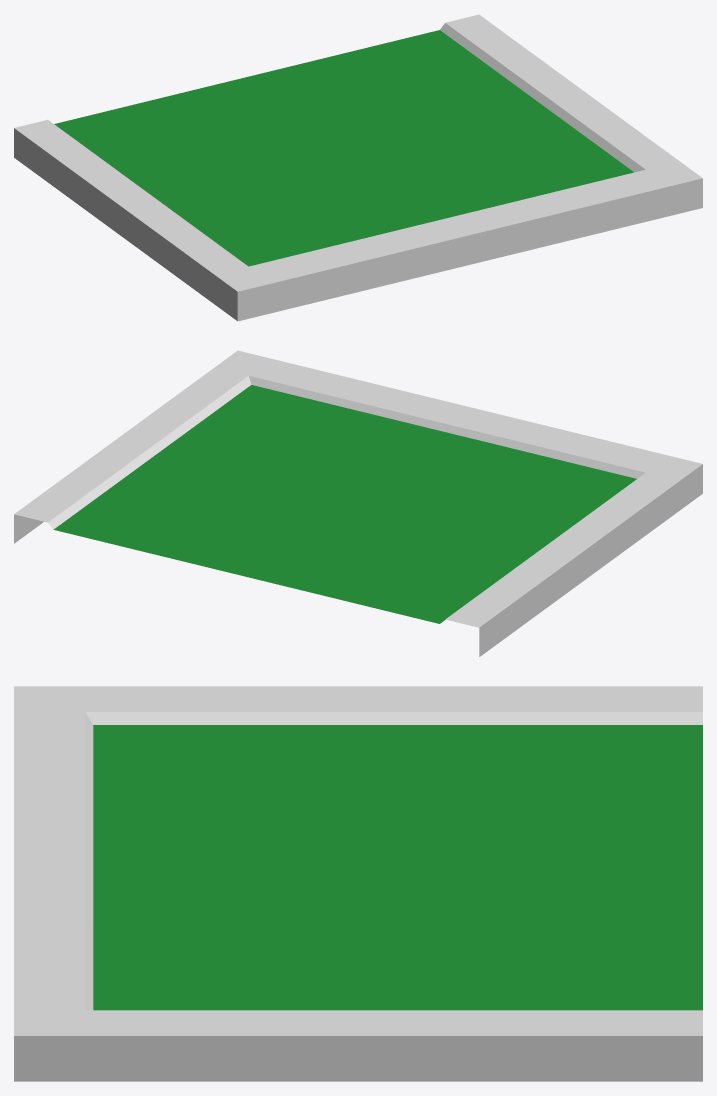
Rendered from GrassBed_1_A_1_.fbx.
The picture shows the model from 3 angles, top to bottom: view 1: azimuth 30°, elevation 25°; view 2: azimuth 150°, elevation 25°; view 3: azimuth 270°, elevation 25°; orthographic projection. The views are drawn at different scales.
Visible parts, largest first — view 1: GrassBed_1_A_1; view 2: GrassBed_1_A_1; view 3: GrassBed_1_A_1.
Boxes of the visible parts, left/top/right/bottom form: GrassBed_1_A_1: left=14, top=14, right=702, bottom=321; GrassBed_1_A_1: left=14, top=350, right=702, bottom=656; GrassBed_1_A_1: left=14, top=686, right=702, bottom=1081.
Size of the model in its own units: 120 by 7.32 by 100.
